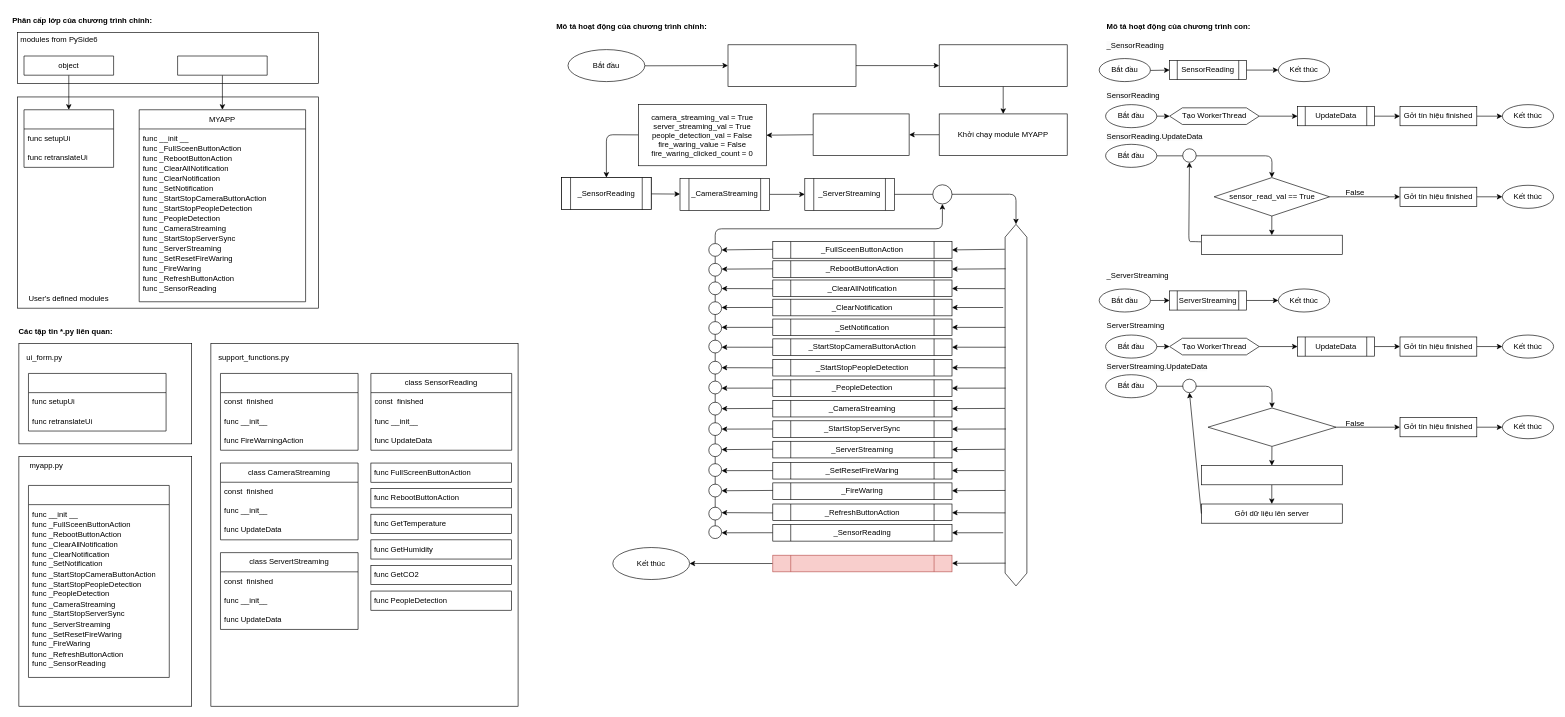
Some shapes in this 1565 by 717 pixel diagram are drawn without their labels. Here are the shapes that lost their labels. From the top down, the box of each, then its label:
(177, 55, 267, 75): QWidget
(727, 44, 856, 86): Khởi tạo các module bên trong PySide6
(939, 44, 1067, 86): Khởi tạo module Ui_MYAPP
(23, 109, 114, 167): Ui_MYAPP
(812, 113, 909, 156): Khởi tạo PiCamera2 giao hiện ứng dụng,
(1201, 235, 1342, 254): Cập nhật giá trị cảm biến trên UI
(28, 373, 166, 431): class Ui_MYAPP
(220, 373, 358, 450): class FireWarning
(1004, 224, 1027, 586): Nút nhấn
(1207, 407, 1336, 446): server_streaming_val == True
(1201, 465, 1342, 485): Cập nhật trạng thái kết nối trên UI
(28, 485, 169, 677): class MYAPP
(772, 555, 952, 572): Close
